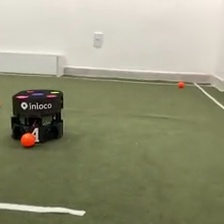ball: (18, 130, 37, 149), (177, 79, 185, 89)
goal: (1, 51, 66, 78)
robot: (8, 87, 66, 144)
